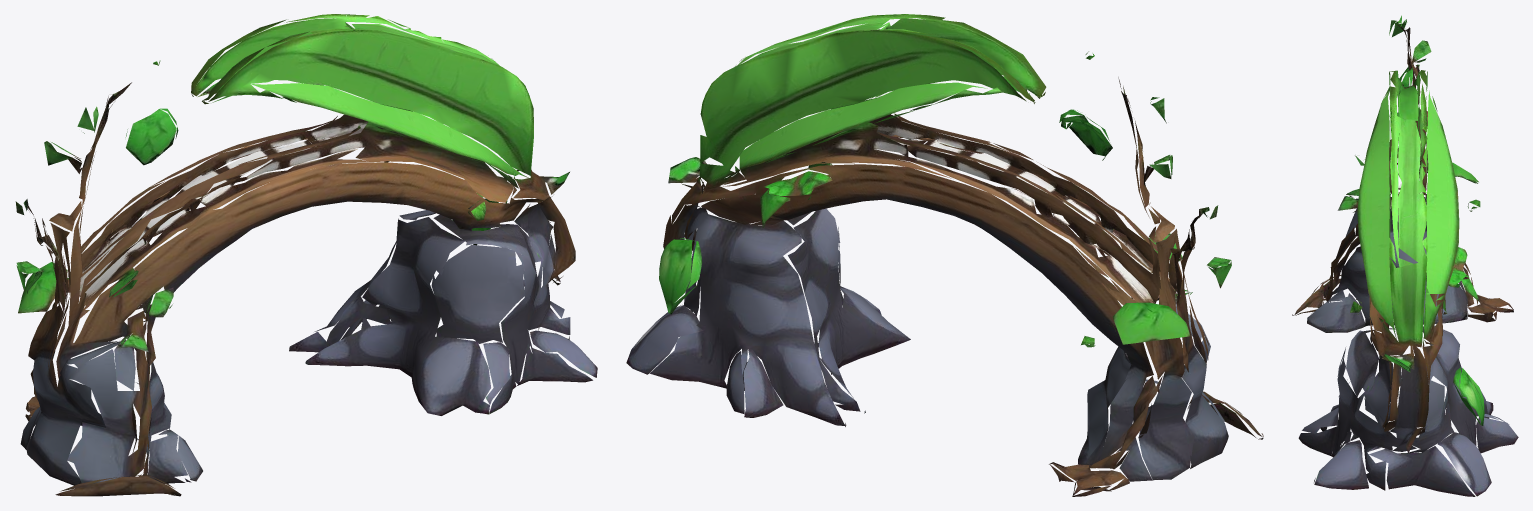
The model's file is filiz_kopru.glb.
3 views of the same model, side by side, from view 1: azimuth 30°, elevation 25°; view 2: azimuth 150°, elevation 25°; view 3: azimuth 270°, elevation 25° (orthographic). The views are drawn at different scales.
Visible parts, largest first — view 1: geometry_0; view 2: geometry_0; view 3: geometry_0.
Part boxes in pixels (x1=…): geometry_0: x1=15, y1=14, x2=597, y2=496; geometry_0: x1=626, y1=14, x2=1263, y2=496; geometry_0: x1=1292, y1=15, x2=1518, y2=496.
Bounding box in the file's own units: 1 × 0.6586 × 0.4312.
Materials: 1 (1 with a texture image).
